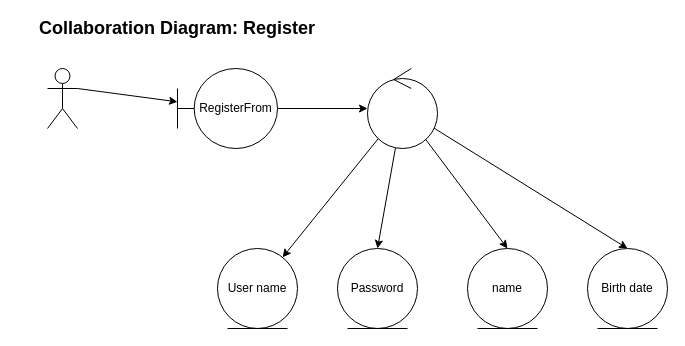
Image size: 685x346. Some labels were removed from this diagram. Here are the shapes that lost their labels. From the top down, the centre of each, then its label:
the point at 62,98: New User
the point at 402,108: Register Controller
